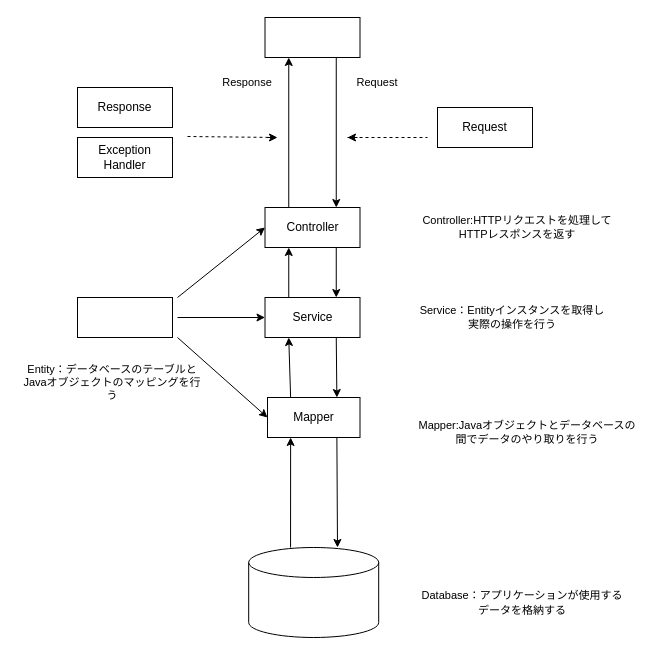
The diagram is 654 pixels wide and 655 high, and some of its shapes have lost their labels. The box of each missing label's shape, as (x1, y1, x2, y2) in pixels:
DB: (248, 546, 379, 638)
Entity: (76, 296, 172, 338)
ブラウザ: (264, 16, 360, 58)
